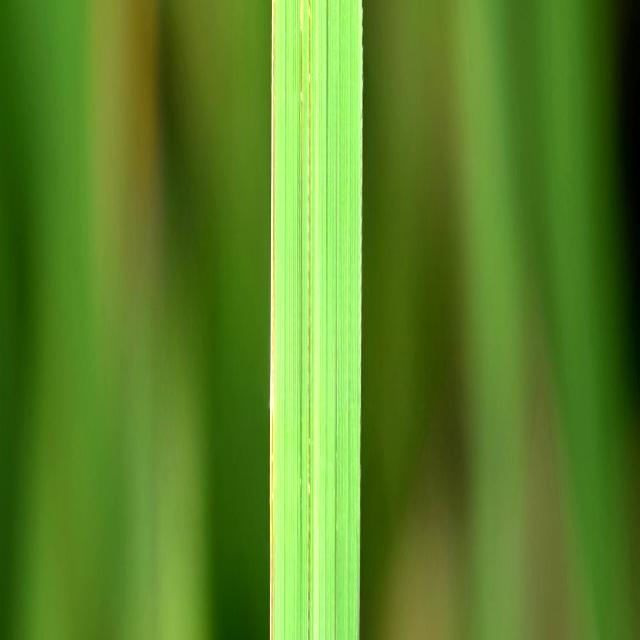BLS: (307, 0, 312, 640), (271, 0, 276, 640), (300, 0, 302, 640), (335, 366, 339, 640), (326, 0, 327, 378)
